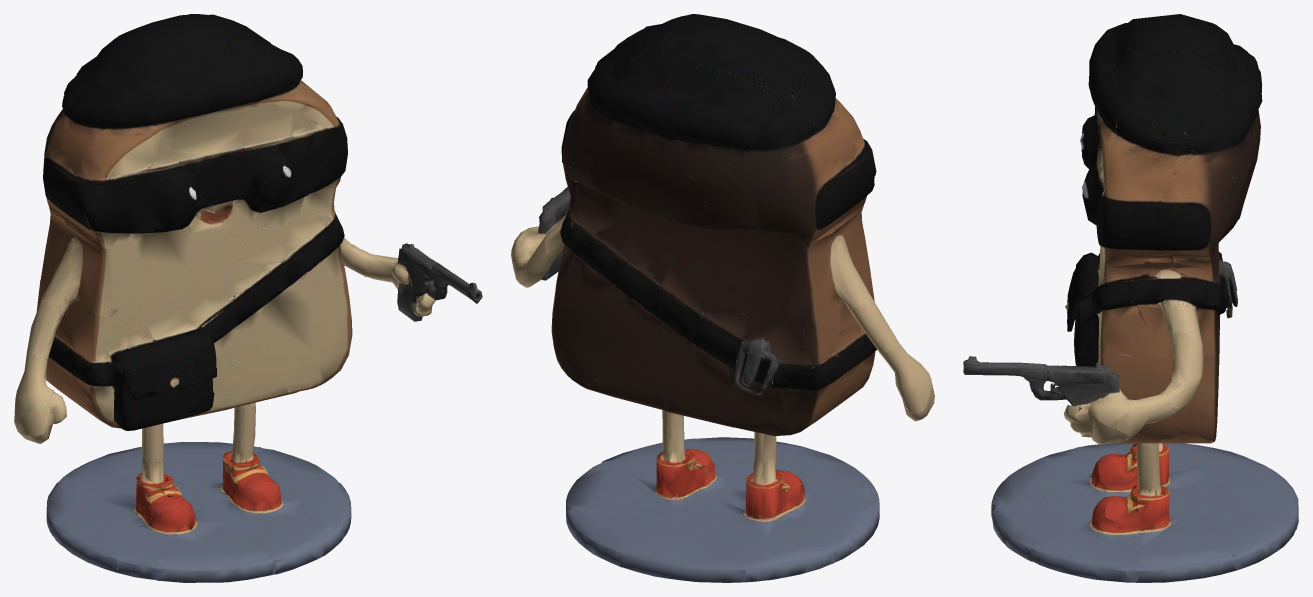
File: toast-bandit.glb
The picture shows the model from 3 angles, left to right: view 1: azimuth 30°, elevation 25°; view 2: azimuth 150°, elevation 25°; view 3: azimuth 270°, elevation 25°; orthographic projection. The views are drawn at different scales.
Parts seen in each view (by area): view 1: Mesh_0; view 2: Mesh_0; view 3: Mesh_0.
Part boxes in pixels (bbox=[...]): Mesh_0: bbox=[14, 14, 482, 582]; Mesh_0: bbox=[511, 14, 934, 582]; Mesh_0: bbox=[963, 14, 1298, 582].
Bounding box in the file's own units: 1.65 × 1.9 × 1.17.
1 material, 1 textured.
